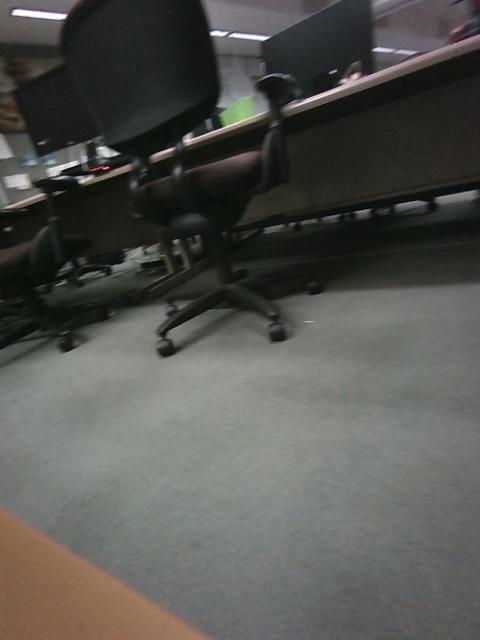block: (178, 372, 264, 430)
